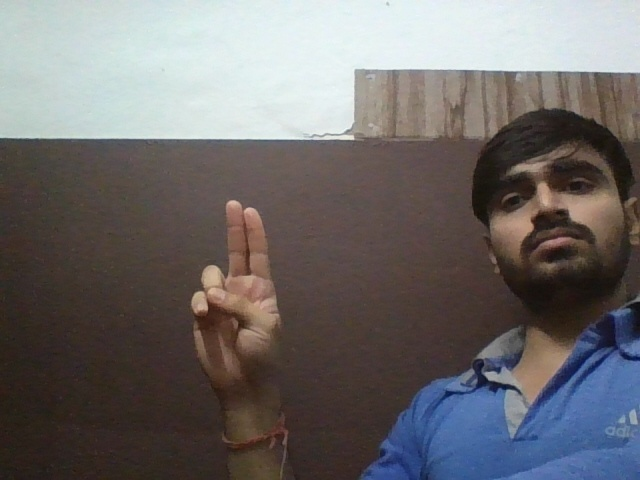U: (163, 187, 301, 422)
